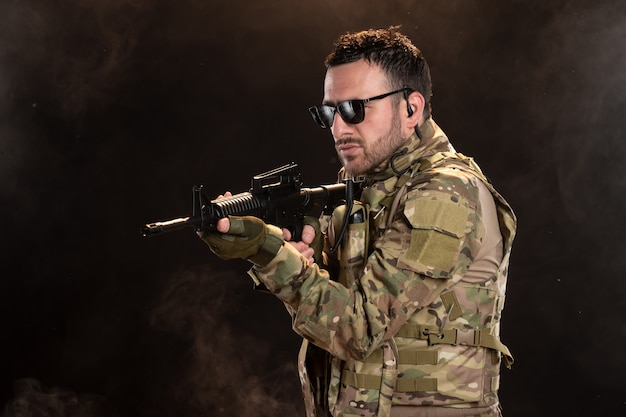gun: (145, 160, 369, 240)
